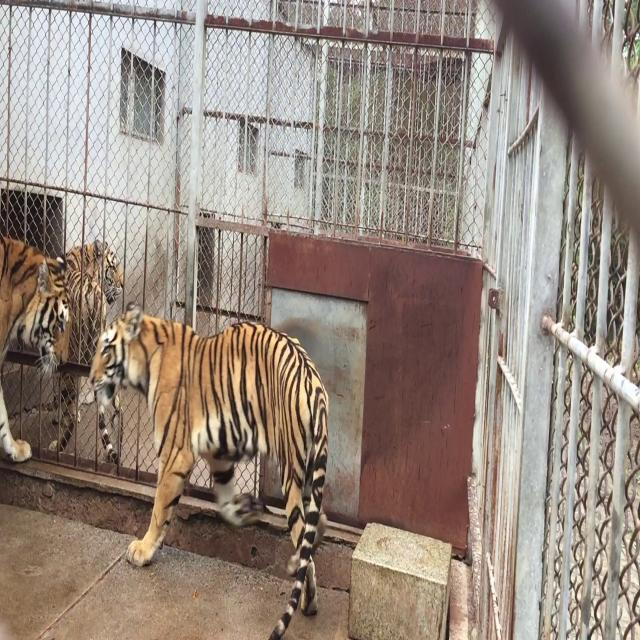Tiger: (69, 278, 347, 640), (0, 177, 82, 478), (52, 233, 124, 467)
